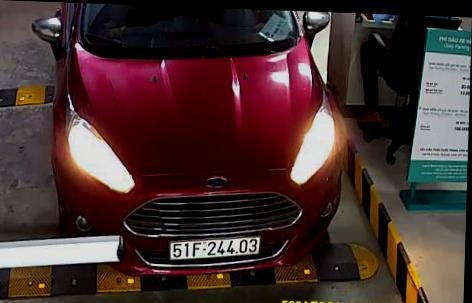License_Plate: (165, 232, 270, 264)
